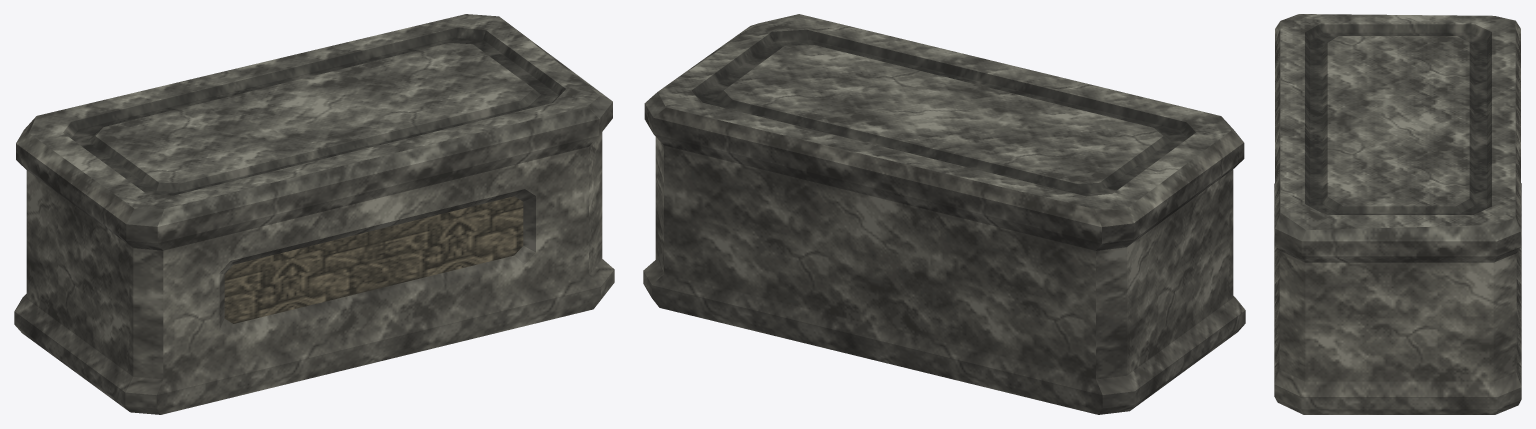
The model's file is Altar.glb.
The picture shows the model from 3 angles, left to right: view 1: azimuth 30°, elevation 25°; view 2: azimuth 150°, elevation 25°; view 3: azimuth 270°, elevation 25°; orthographic projection. The views are drawn at different scales.
Parts seen in each view (by area): view 1: Bloco, Tampo, Inscrições gastas, Sulco talhado, Rebaixo talhado; view 2: Bloco, Tampo, Sulco talhado; view 3: Bloco, Tampo, Sulco talhado.
Part boxes in pixels (x1,y1,x2,y2): Bloco: (14, 18, 614, 414); Tampo: (29, 14, 599, 208); Inscrições gastas: (224, 196, 523, 323); Sulco talhado: (63, 27, 565, 195); Rebaixo talhado: (219, 189, 535, 336); Bloco: (643, 23, 1245, 414); Tampo: (658, 14, 1230, 209); Sulco talhado: (692, 29, 1195, 196); Bloco: (1274, 21, 1521, 414); Tampo: (1280, 14, 1515, 229); Sulco talhado: (1305, 24, 1491, 214).
Bounding box in the file's own units: 2.32 × 0.917 × 1.09.
3 materials, 3 textured.
